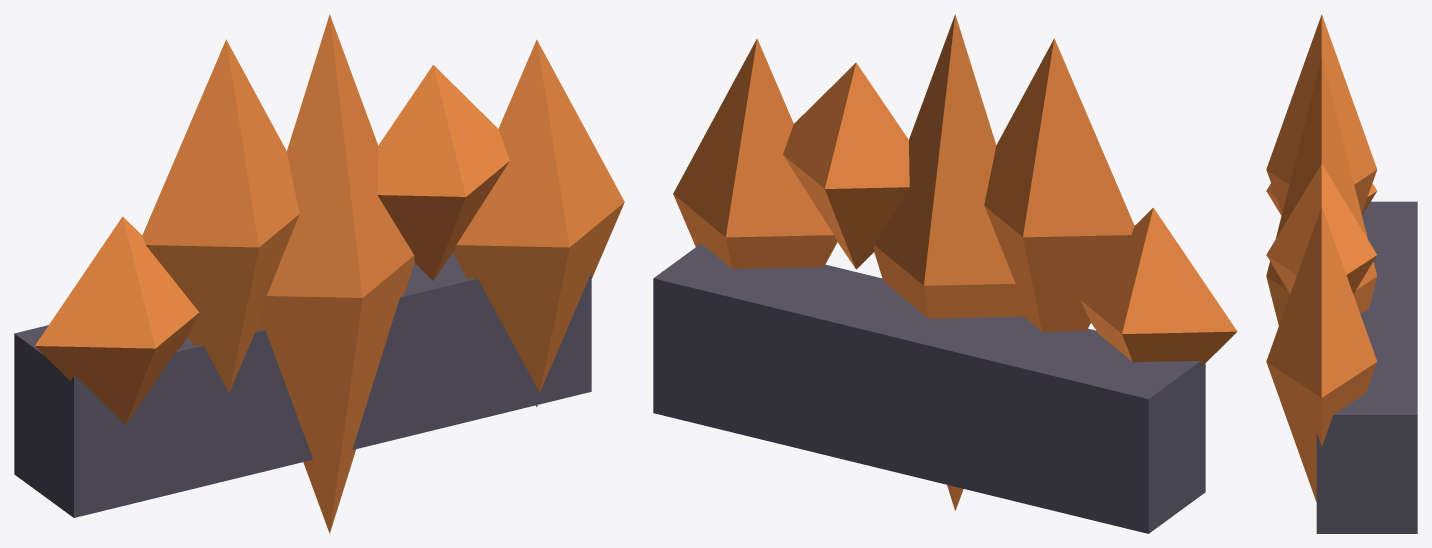
File: Volcanic_Accent.fbx
3 views of the same model, side by side, from view 1: azimuth 30°, elevation 25°; view 2: azimuth 150°, elevation 25°; view 3: azimuth 270°, elevation 25° (orthographic). The views are drawn at different scales.
Parts seen in each view (by area): view 1: Volcanic_Accent; view 2: Volcanic_Accent; view 3: Volcanic_Accent.
Part boxes in pixels (bbox=[...]): Volcanic_Accent: bbox=[14, 14, 624, 533]; Volcanic_Accent: bbox=[653, 14, 1237, 533]; Volcanic_Accent: bbox=[1266, 14, 1417, 533].
Bounding box in the file's own units: 57 × 48 × 15.
